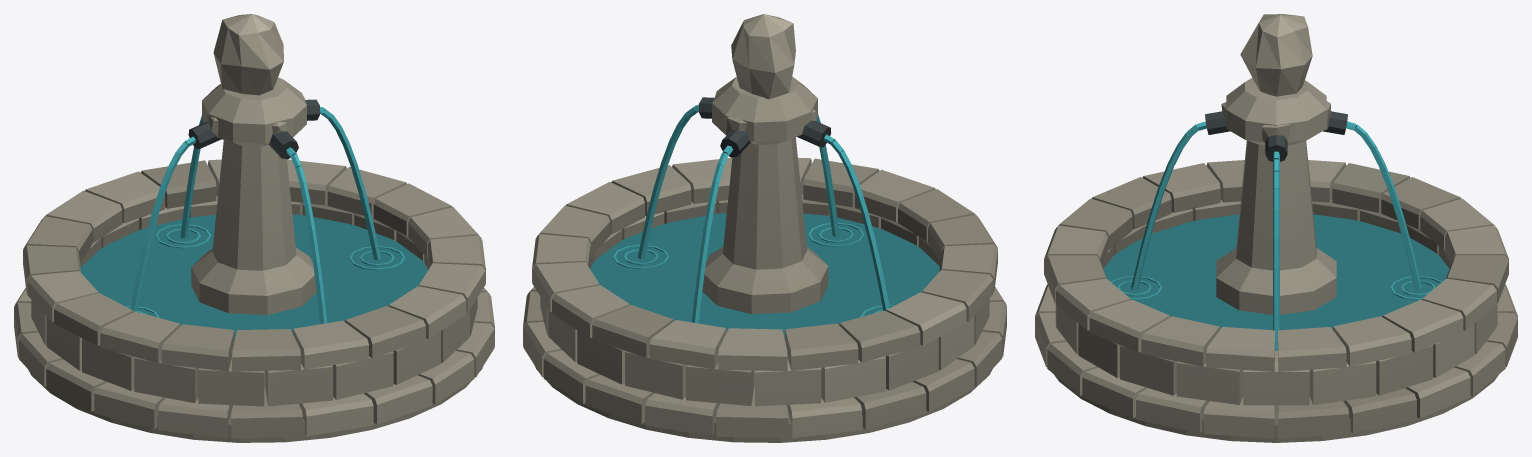
File: town_fountain.glb
3 renders of one model, left to right at view 1: azimuth 30°, elevation 25°; view 2: azimuth 150°, elevation 25°; view 3: azimuth 270°, elevation 25°, orthographic.
Visible parts, largest first — view 1: town_fountain; view 2: town_fountain; view 3: town_fountain.
Part boxes in pixels (box(x1,y1,x2,y2)): town_fountain: box(14, 14, 494, 442); town_fountain: box(523, 14, 1006, 442); town_fountain: box(1035, 14, 1517, 442).
Bounding box in the file's own units: 3.2 × 2.4 × 3.2.
